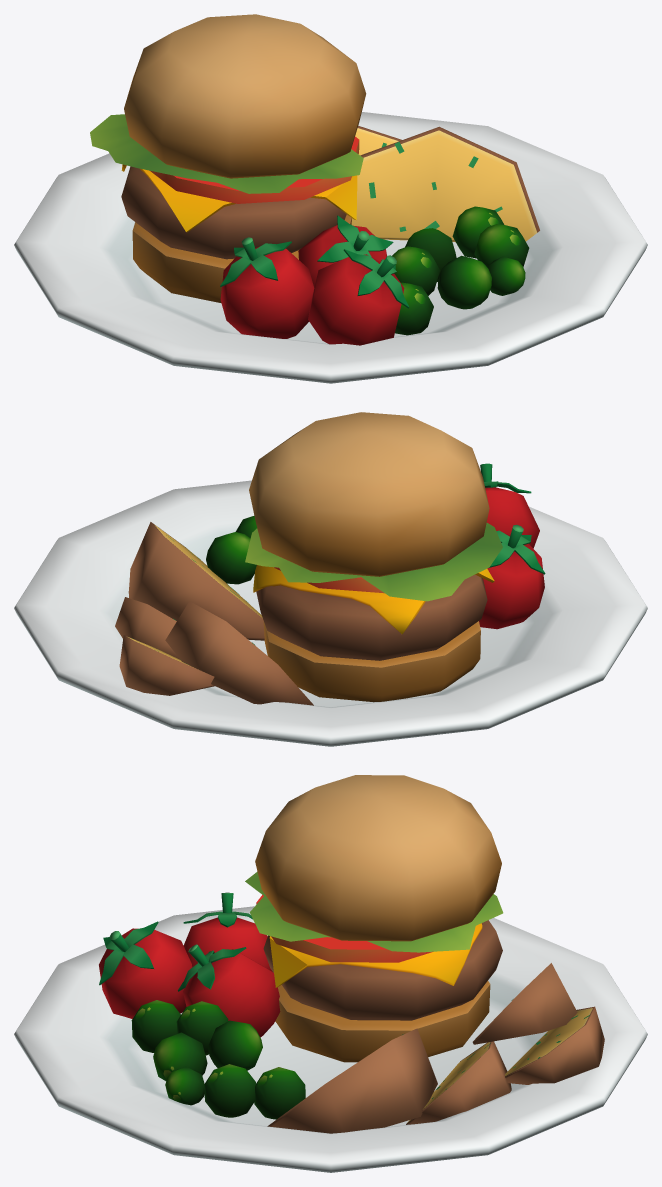
Rendered from CR_caf_Dish_006.FBX.
The picture shows the model from 3 angles, top to bottom: view 1: azimuth 30°, elevation 25°; view 2: azimuth 150°, elevation 25°; view 3: azimuth 270°, elevation 25°; orthographic projection.
Visible parts, largest first — view 1: CR_caf_Dish_006; view 2: CR_caf_Dish_006; view 3: CR_caf_Dish_006.
Part boxes in pixels (x1=…): CR_caf_Dish_006: x1=14, y1=14, x2=647, y2=383; CR_caf_Dish_006: x1=14, y1=412, x2=647, y2=746; CR_caf_Dish_006: x1=14, y1=775, x2=647, y2=1172.
Size of the model in its own units: 30.83 by 13.64 by 30.83.
